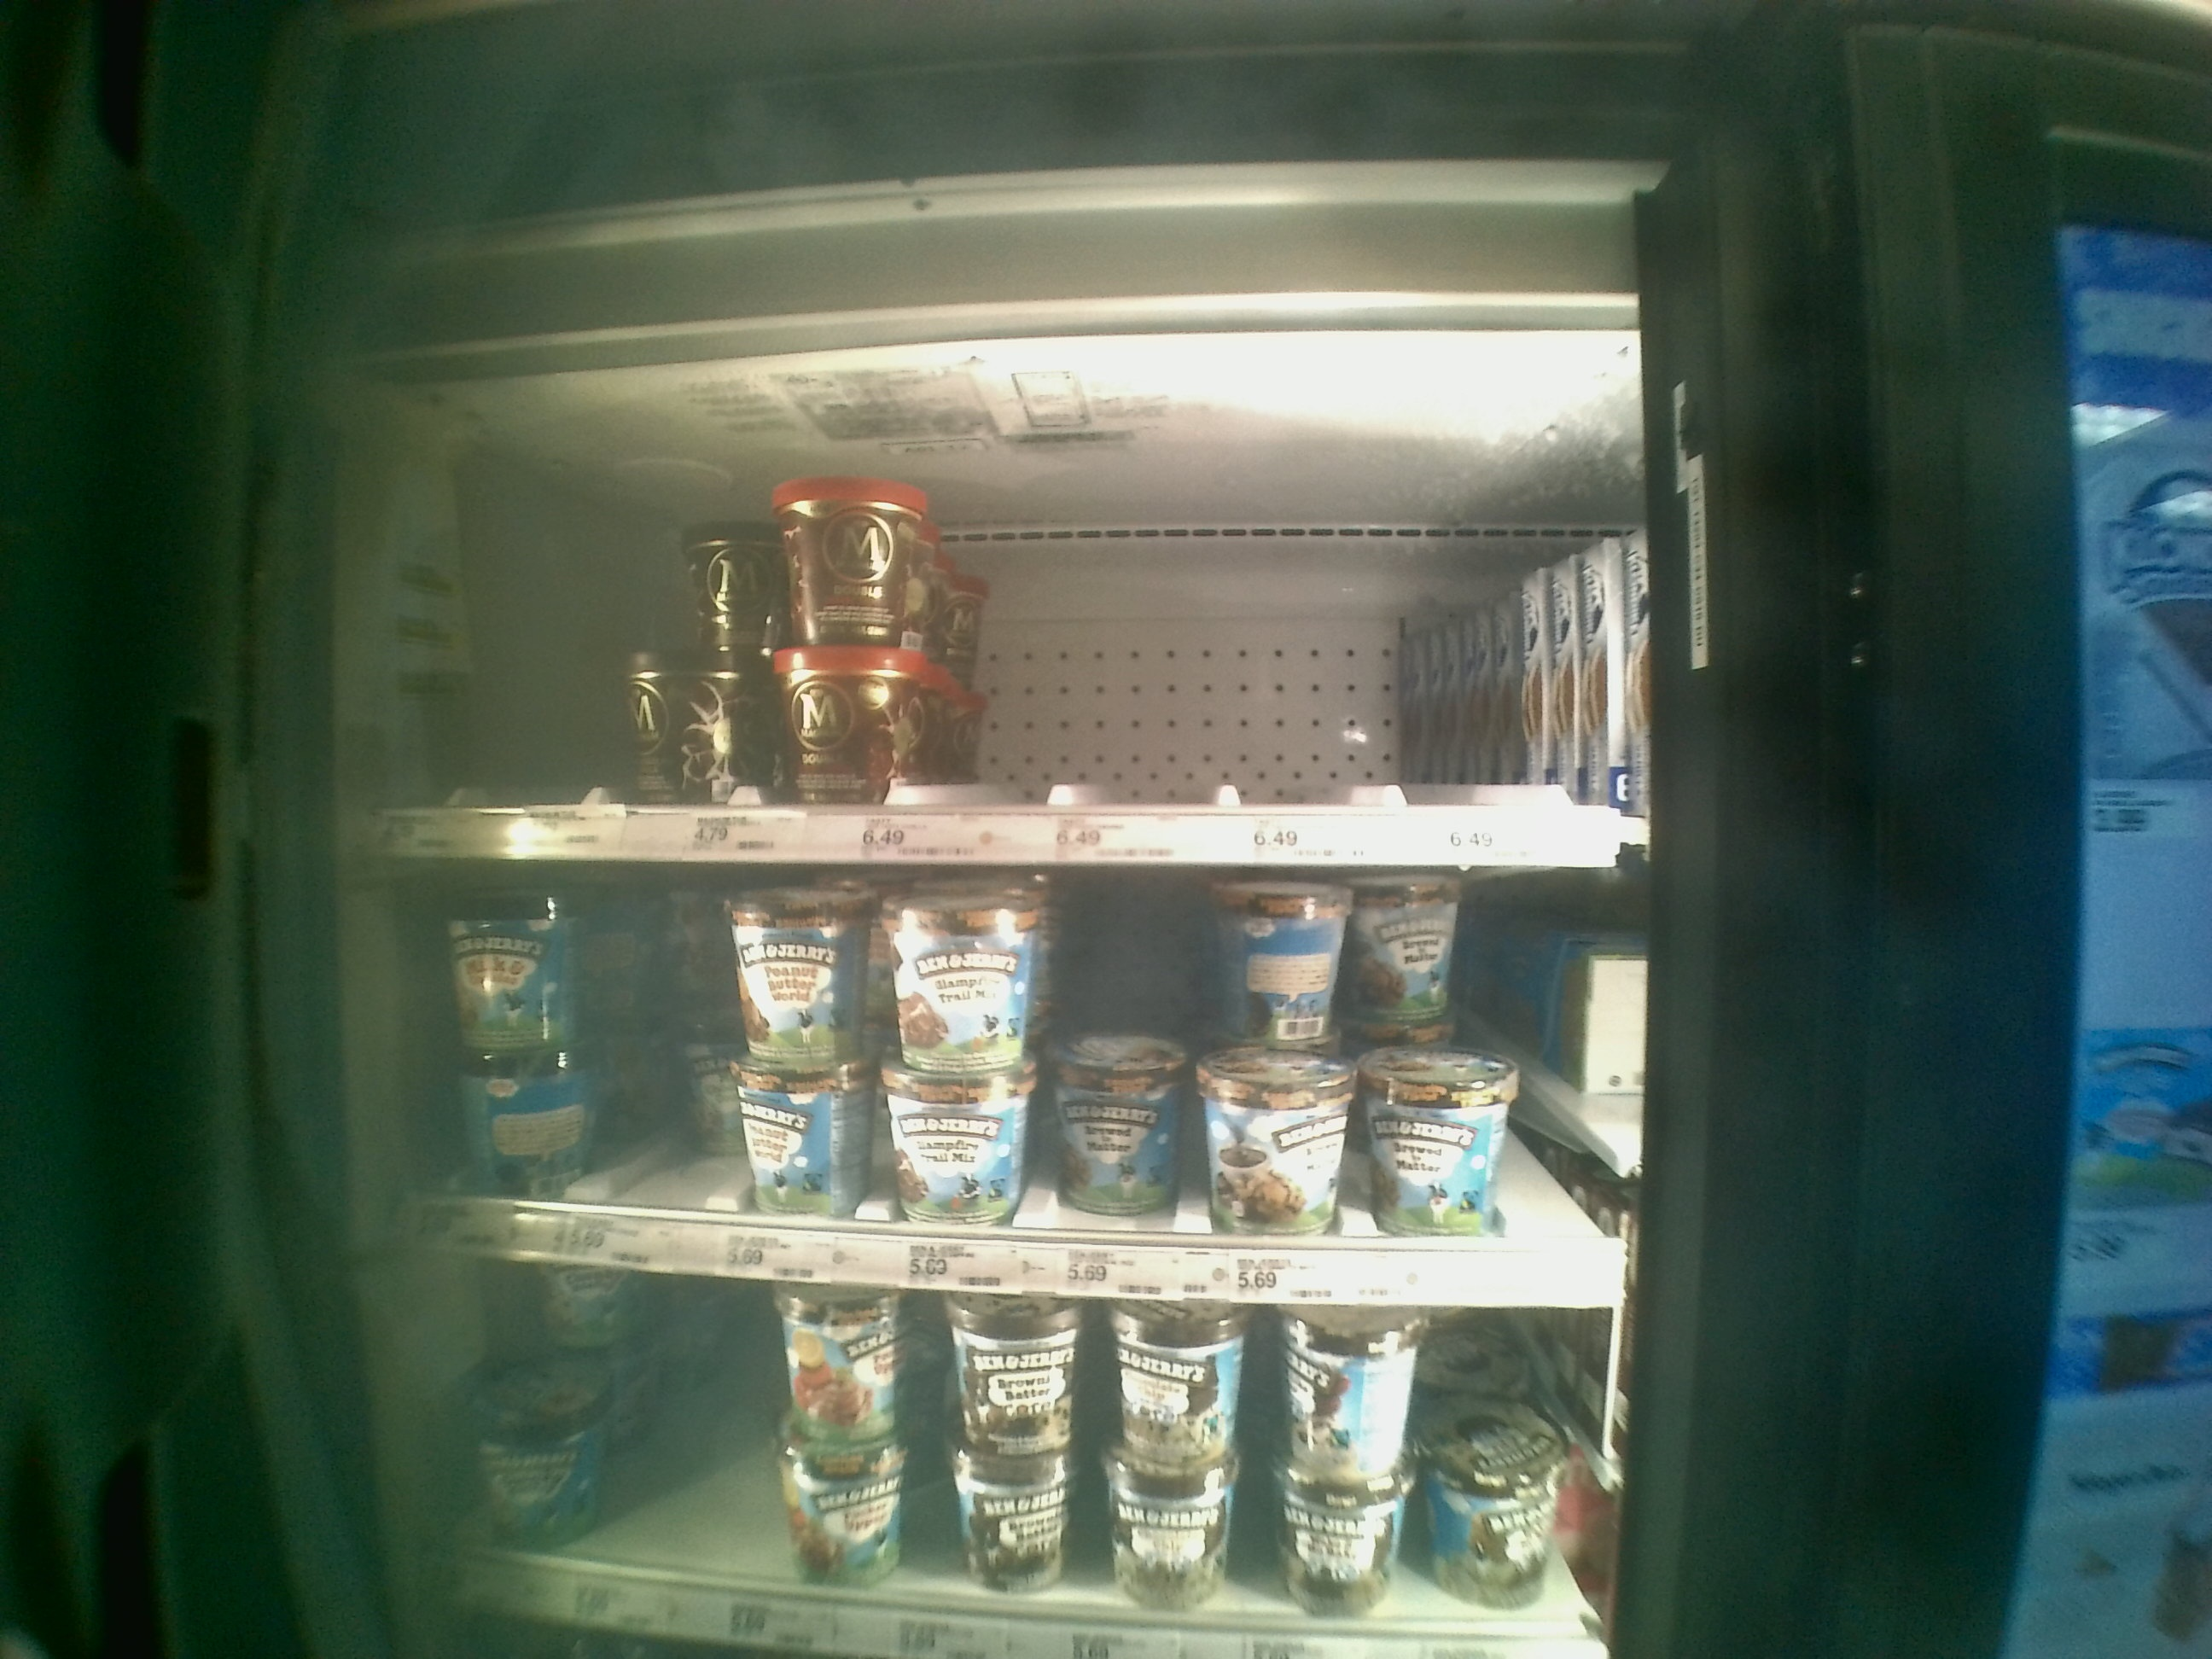ice-cream-shelf: (392, 415, 1646, 864), (383, 854, 1629, 1305)
